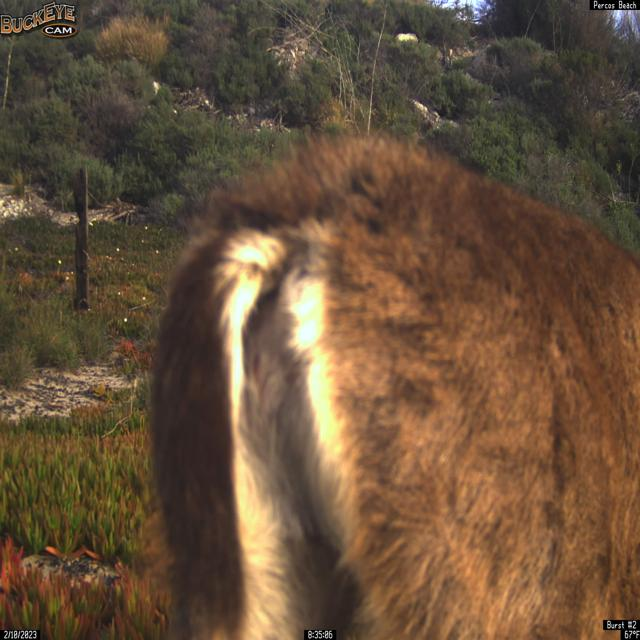deer: (134, 127, 639, 637)
